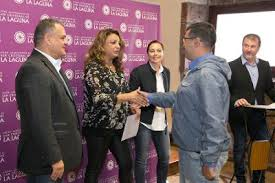person: (20, 19, 77, 99), (132, 33, 180, 106), (177, 25, 220, 105), (85, 29, 130, 105), (230, 30, 268, 94)
